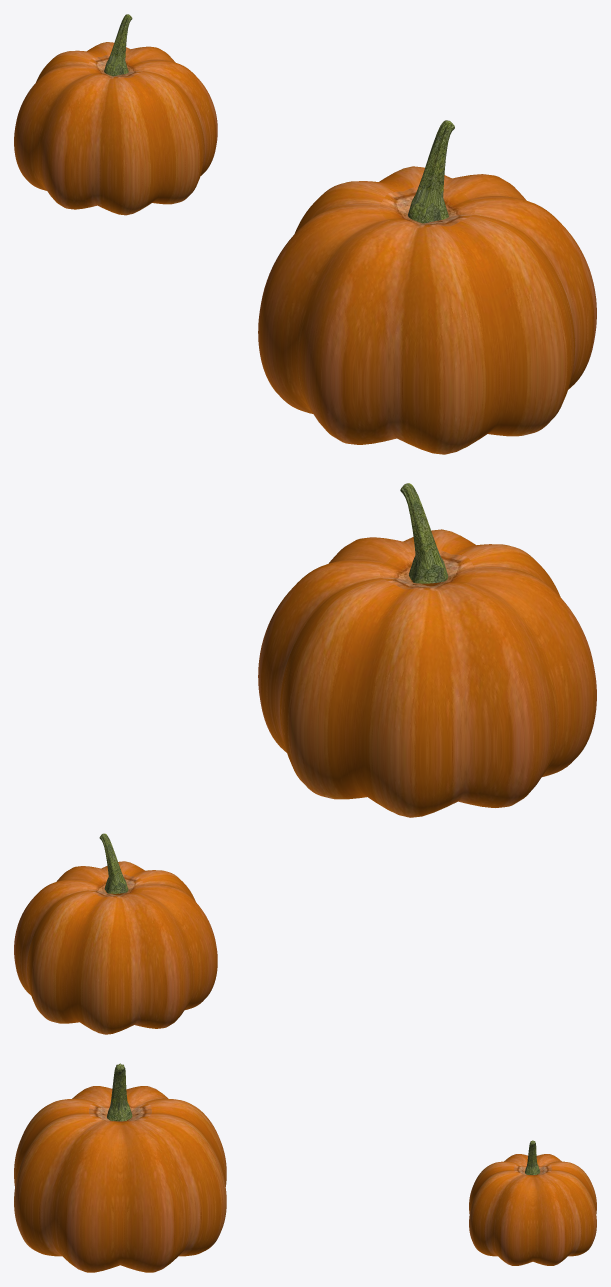
The model's file is pumpkin_patch.obj.
3 renders of one model, top to bottom at view 1: azimuth 30°, elevation 25°; view 2: azimuth 150°, elevation 25°; view 3: azimuth 270°, elevation 25°, orthographic. The views are drawn at different scales.
Parts seen in each view (by area): view 1: pumpkin:Mesh, Mesh; view 2: pumpkin:Mesh, Mesh; view 3: pumpkin:Mesh, Mesh.
Part boxes in pixels (box(x1,y1,x2,y2)): pumpkin:Mesh: box(258, 120, 596, 454); Mesh: box(14, 14, 217, 215); pumpkin:Mesh: box(258, 483, 596, 817); Mesh: box(14, 833, 217, 1034); pumpkin:Mesh: box(14, 1063, 226, 1272); Mesh: box(469, 1140, 596, 1265).
Bounding box in the file's own units: 5.02 × 5.01 × 13.75.
4 materials, 4 textured.
